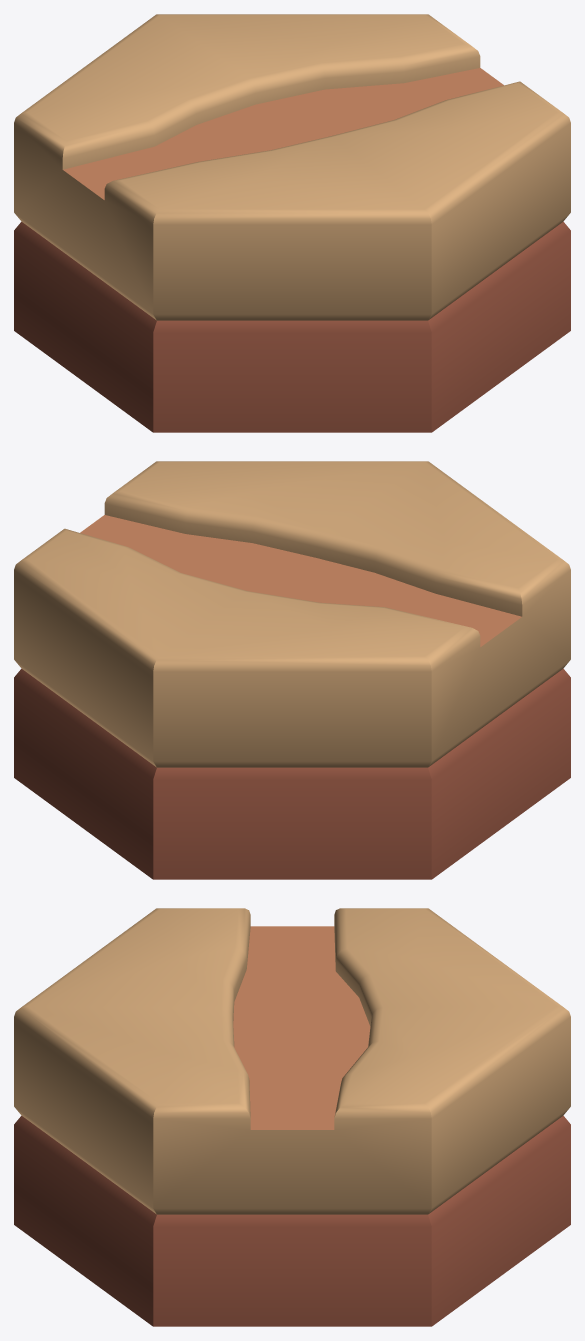
File: hex_sand_roadB_detail.glb
3 views of the same model, one above another, from view 1: azimuth 30°, elevation 25°; view 2: azimuth 150°, elevation 25°; view 3: azimuth 270°, elevation 25° (orthographic).
Parts seen in each view (by area): view 1: hex_sand_roadB_detail; view 2: hex_sand_roadB_detail; view 3: hex_sand_roadB_detail.
Boxes of the visible parts, x1,y1,x2,y2 form: hex_sand_roadB_detail: [14, 14, 570, 432]; hex_sand_roadB_detail: [14, 461, 570, 879]; hex_sand_roadB_detail: [14, 908, 570, 1326].
Size of the model in its own units: 2 by 1 by 2.31.
